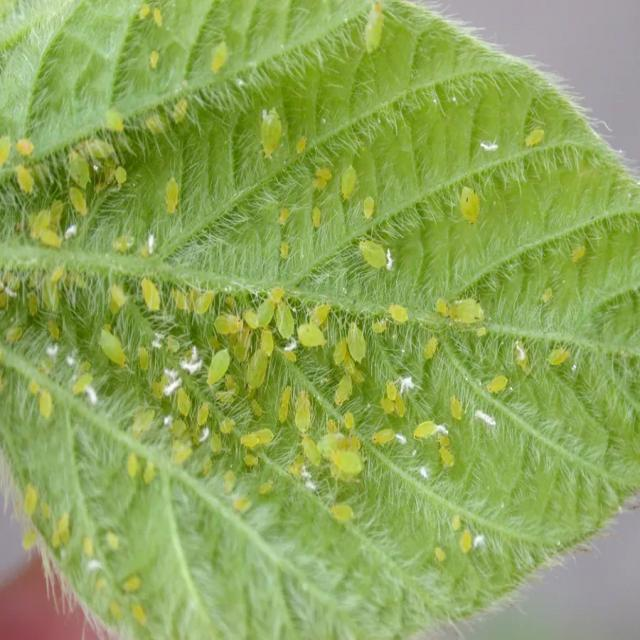Aphid-Grouped-: (170, 279, 387, 491)
Aphid-Grown-: (348, 229, 398, 276), (254, 99, 288, 166), (453, 178, 486, 234), (58, 142, 92, 196), (242, 347, 274, 395), (322, 370, 360, 410), (446, 292, 488, 328), (334, 158, 361, 212), (96, 327, 132, 367), (202, 342, 230, 392), (135, 268, 165, 314), (292, 311, 326, 351), (292, 384, 318, 436), (69, 179, 95, 225), (159, 173, 184, 216), (211, 307, 242, 341), (191, 279, 215, 321), (522, 117, 546, 156), (172, 383, 196, 421), (191, 400, 212, 422)
